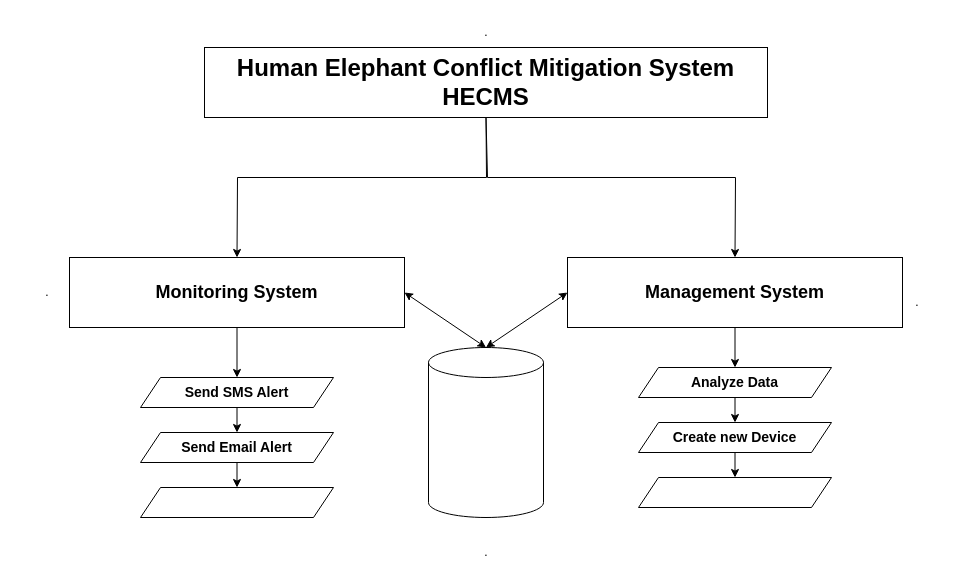
Some shapes in this 964 by 584 pixel diagram are drawn without their labels. The shapes that lost their labels are listed below. From the top down, each one's box as (x1, y1, x2, y2) in pixels, then its label:
(428, 346, 544, 518): Database
(140, 486, 334, 518): Play Artificial Souds
(638, 476, 832, 508): Manage the System
